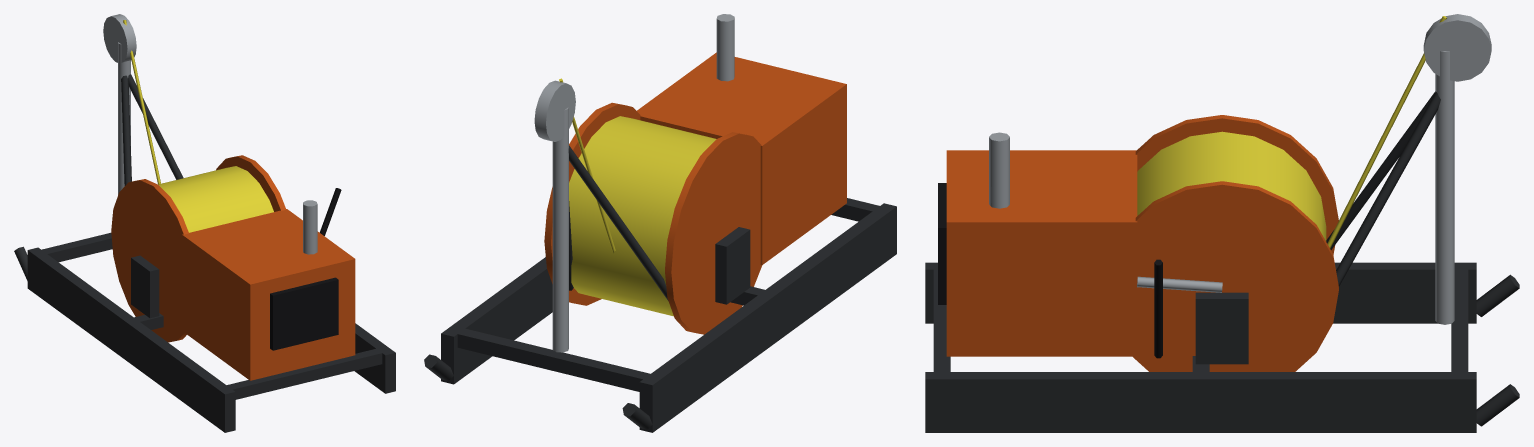
The model's file is tow_winch.glb.
3 renders of one model, left to right at view 1: azimuth 30°, elevation 25°; view 2: azimuth 150°, elevation 25°; view 3: azimuth 270°, elevation 25°, orthographic. The views are drawn at different scales.
Parts seen in each view (by area): view 1: tow_winch_LOD0; view 2: tow_winch_LOD0; view 3: tow_winch_LOD0.
Boxes of the visible parts, x1,y1,x2,y2 form: tow_winch_LOD0: [14, 14, 395, 432]; tow_winch_LOD0: [424, 14, 896, 432]; tow_winch_LOD0: [925, 14, 1519, 432].
Size of what is drawn, in the model's own units: 1.52 by 1.87 by 2.8.
